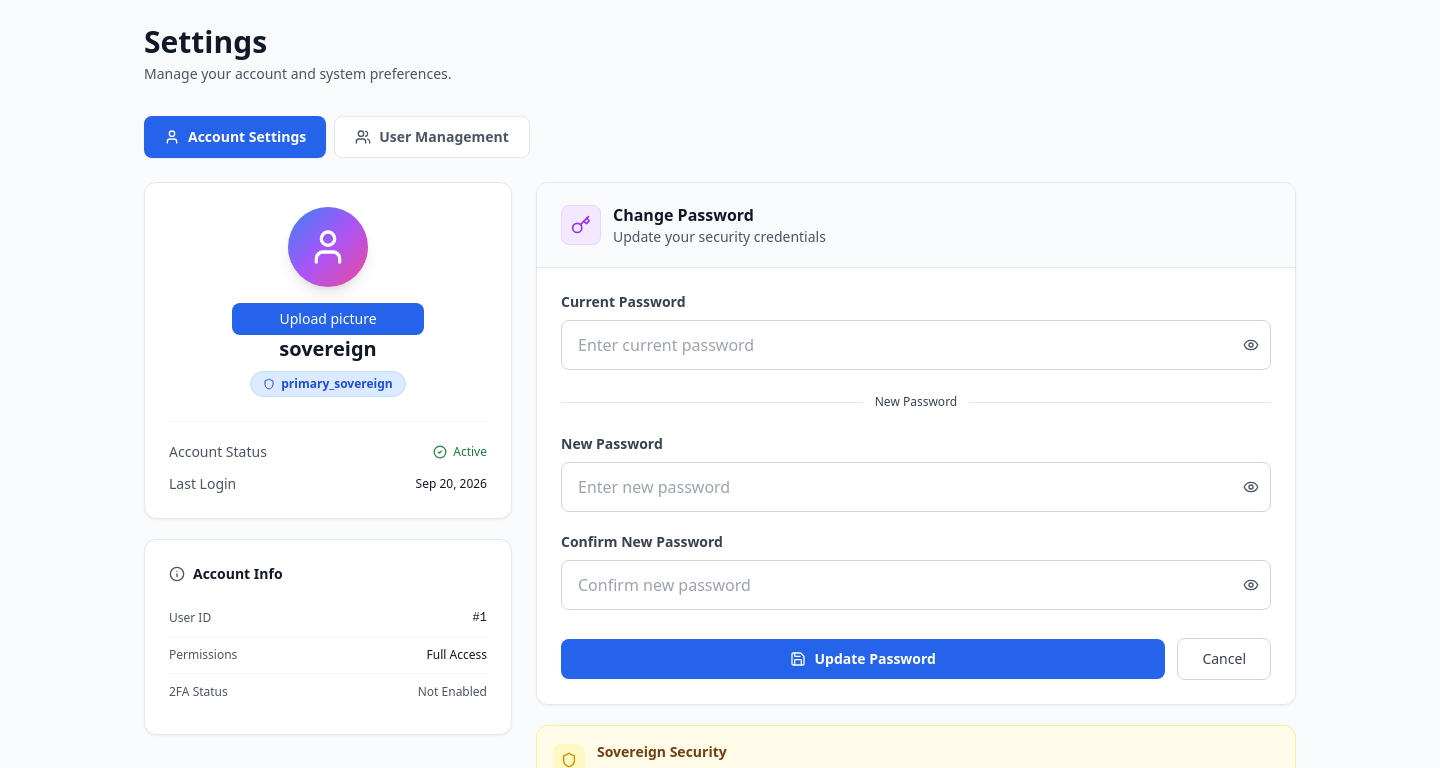
Test case: 12.3.2 — User preferences save and persist (password change) › password strength indicator appears when typing new password
Type "StrongP@ss1" into the password field labelled "New Password" at [916, 487], box 561,462 -> 1271,512
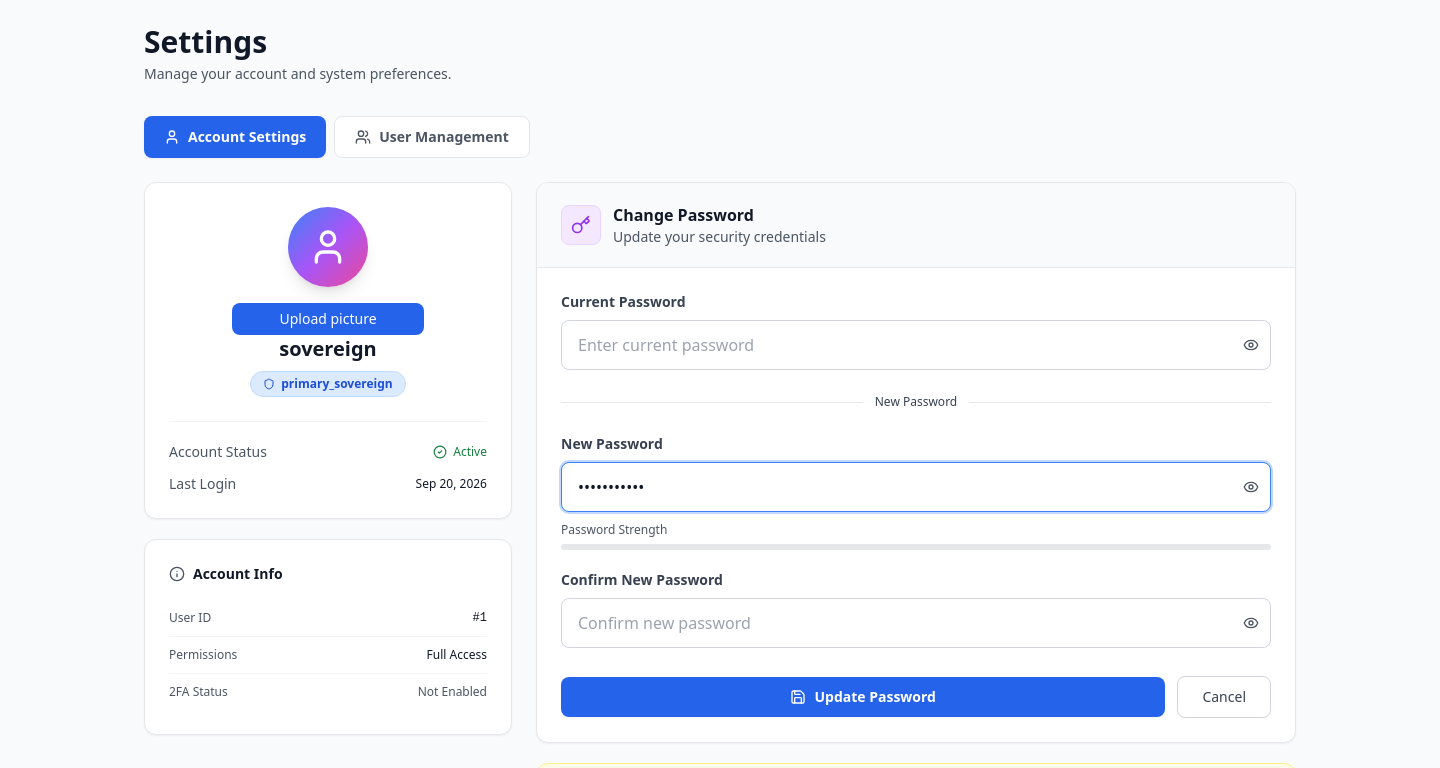
Now the text "Password Strength" is shown, box 561,522 -> 667,538
